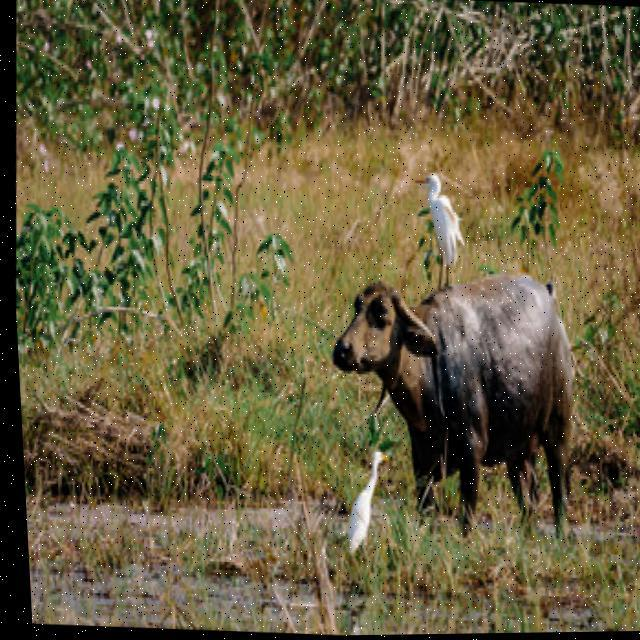Buffalo: (315, 256, 592, 543)
